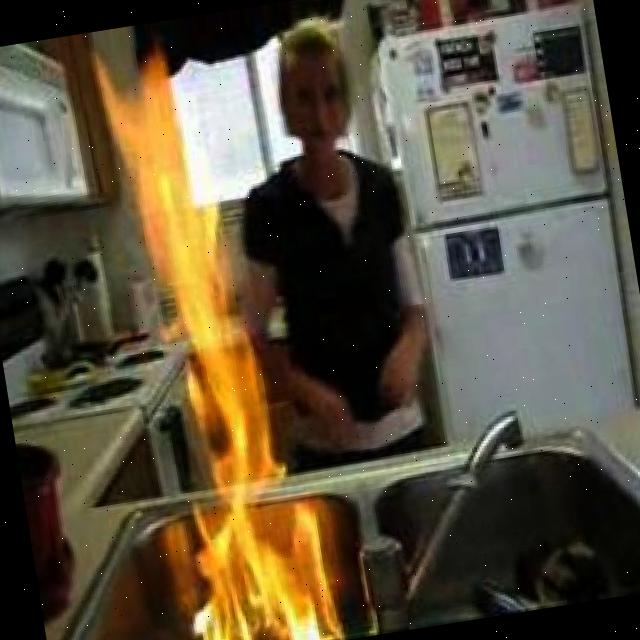fire: (88, 31, 343, 640)
